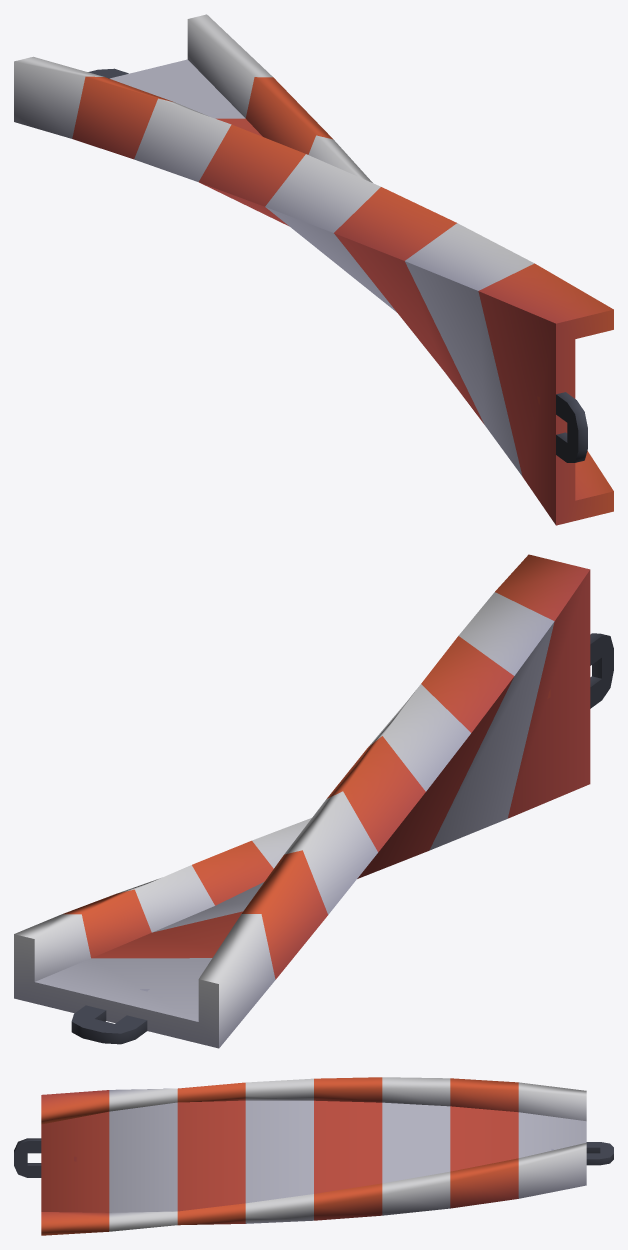
Rendered from track-striped-narrow-straight-skew-left-side.glb.
3 renders of one model, top to bottom at view 1: azimuth 30°, elevation 25°; view 2: azimuth 150°, elevation 25°; view 3: azimuth 270°, elevation 25°, orthographic. The views are drawn at different scales.
Parts seen in each view (by area): view 1: track-striped-narrow-straight-skew-left-side; view 2: track-striped-narrow-straight-skew-left-side; view 3: track-striped-narrow-straight-skew-left-side.
Boxes of the visible parts, x1=… form: track-striped-narrow-straight-skew-left-side: x1=14, y1=14, x2=613, y2=525; track-striped-narrow-straight-skew-left-side: x1=14, y1=554, x2=613, y2=1048; track-striped-narrow-straight-skew-left-side: x1=14, y1=1077, x2=613, y2=1235.
Bounding box in the file's own units: 1.08 × 1.08 × 4.4.
